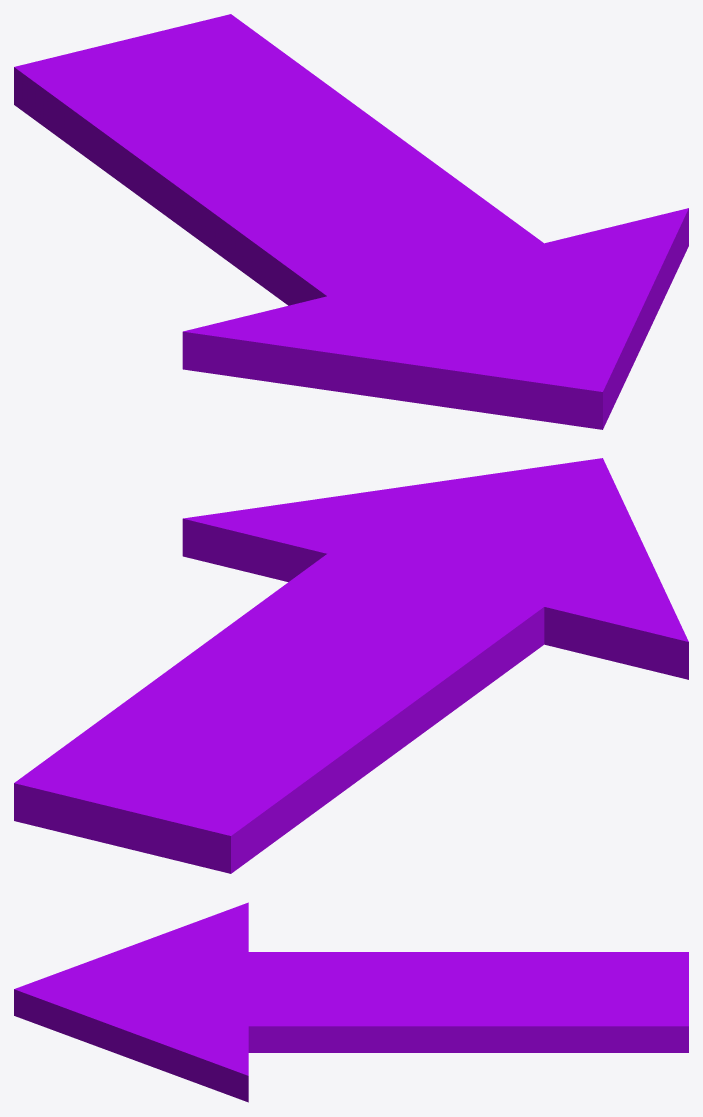
Rendered from arrow.glb.
3 views of the same model, one above another, from view 1: azimuth 30°, elevation 25°; view 2: azimuth 150°, elevation 25°; view 3: azimuth 270°, elevation 25° (orthographic). The views are drawn at different scales.
Parts seen in each view (by area): view 1: Body1; view 2: Body1; view 3: Body1.
Part boxes in pixels (x1,y1,x2,y2): Body1: (14, 14, 688, 429); Body1: (14, 458, 688, 873); Body1: (14, 902, 688, 1102).
Bounding box in the file's own units: 1.09 × 0.0777 × 1.79.
